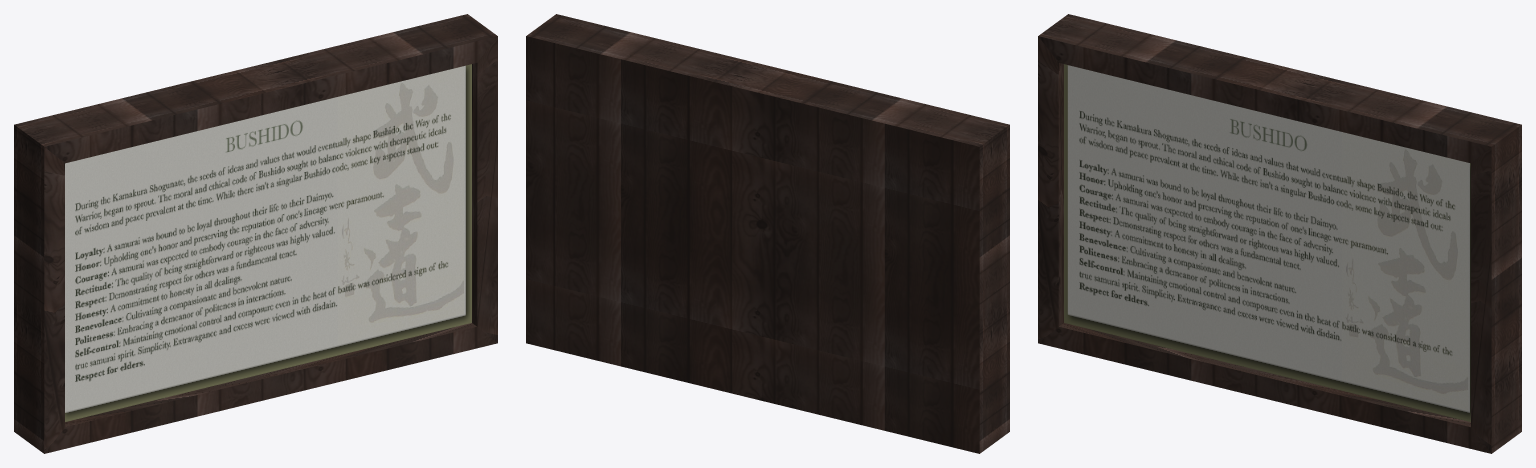
3 renders of one model, left to right at view 1: azimuth 30°, elevation 25°; view 2: azimuth 150°, elevation 25°; view 3: azimuth 330°, elevation 25°, orthographic.
Visible parts, largest first — view 1: 4s; view 2: 4s; view 3: 4s.
Boxes of the visible parts, left/top/right/bottom form: 4s: left=14, top=14, right=497, bottom=453; 4s: left=526, top=14, right=1009, bottom=453; 4s: left=1038, top=14, right=1521, bottom=453.
Bounding box in the file's own units: 2.4 × 1.55 × 0.2773.
2 materials, 2 textured.
